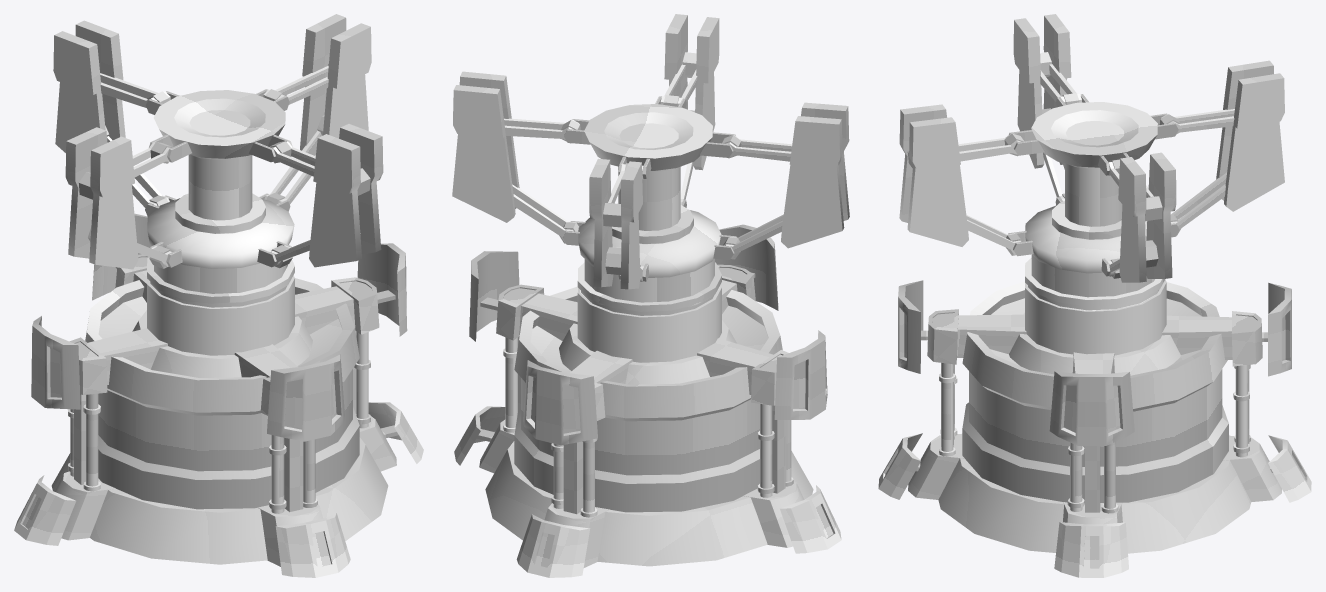
Rendered from shield_generator.obj.
3 views of the same model, side by side, from view 1: azimuth 30°, elevation 25°; view 2: azimuth 150°, elevation 25°; view 3: azimuth 270°, elevation 25° (orthographic). The views are drawn at different scales.
Parts seen in each view (by area): view 1: Shield_generatorgroup30_Shield_generatorgroup29_Shield_generator, Shield_generatorpCylinder1_Shield_generatorlambert5_0, Shield_generatorpolySurface1_Shield_generatorlambert5_0, Shield_generatorpolySurface7_Shield_generatorlambert5_0_2, Shield_generatorpolySurface8_Shield_generatorlambert5_0_2, Shield_generatorpolySurface7_Shield_generatorlambert5_0_3, Shield_generatorpCylinder3_Shield_generatorlambert5_0, Shield_generatorpolySurface7_Shield_generatorlambert5_0_1, Shield_generatorpolySurface8_Shield_generatorlambert5_0_3, Shield_generatorpolySurface3_Shield_generatorlambert5_0_3, Shield_generatorpolySurface6_Shield_generatorlambert5_0_3, Shield_generatorpolySurface6_Shield_generatorlambert5_0_1 (+13 smaller); view 2: Shield_generatorgroup30_Shield_generatorgroup29_Shield_generator, Shield_generatorpCylinder1_Shield_generatorlambert5_0, Shield_generatorpolySurface1_Shield_generatorlambert5_0, Shield_generatorpolySurface7_Shield_generatorlambert5_0, Shield_generatorpolySurface7_Shield_generatorlambert5_0_3, Shield_generatorpolySurface8_Shield_generatorlambert5_0, Shield_generatorpCylinder3_Shield_generatorlambert5_0, Shield_generatorpolySurface7_Shield_generatorlambert5_0_1, Shield_generatorpolySurface8_Shield_generatorlambert5_0_3, Shield_generatorpolySurface7_Shield_generatorlambert5_0_2, Shield_generatorpolySurface3_Shield_generatorlambert5_0_3, Shield_generatorpolySurface6_Shield_generatorlambert5_0_3 (+14 smaller); view 3: Shield_generatorgroup30_Shield_generatorgroup29_Shield_generator, Shield_generatorpCylinder1_Shield_generatorlambert5_0, Shield_generatorpolySurface1_Shield_generatorlambert5_0, Shield_generatorpolySurface7_Shield_generatorlambert5_0_1, Shield_generatorpolySurface8_Shield_generatorlambert5_0_1, Shield_generatorpCylinder3_Shield_generatorlambert5_0, Shield_generatorpolySurface7_Shield_generatorlambert5_0_2, Shield_generatorpolySurface7_Shield_generatorlambert5_0, Shield_generatorpolySurface6_Shield_generatorlambert5_0_2, Shield_generatorpolySurface6_Shield_generatorlambert5_0, Shield_generatorpolySurface3_Shield_generatorlambert5_0, Shield_generatorpolySurface3_Shield_generatorlambert5_0_2 (+11 smaller).
Part boxes in pixels (x1=…): Shield_generatorgroup30_Shield_generatorgroup29_Shield_generator: x1=53, y1=14, x2=383, y2=355; Shield_generatorpCylinder1_Shield_generatorlambert5_0: x1=85, y1=278, x2=359, y2=509; Shield_generatorpolySurface1_Shield_generatorlambert5_0: x1=51, y1=437, x2=388, y2=564; Shield_generatorpolySurface7_Shield_generatorlambert5_0_2: x1=267, y1=354, x2=344, y2=441; Shield_generatorpolySurface8_Shield_generatorlambert5_0_2: x1=275, y1=512, x2=350, y2=577; Shield_generatorpolySurface7_Shield_generatorlambert5_0_3: x1=31, y1=316, x2=80, y2=409; Shield_generatorpCylinder3_Shield_generatorlambert5_0: x1=132, y1=310, x2=312, y2=377; Shield_generatorpolySurface7_Shield_generatorlambert5_0_1: x1=357, y1=243, x2=407, y2=336; Shield_generatorpolySurface8_Shield_generatorlambert5_0_3: x1=14, y1=475, x2=76, y2=545; Shield_generatorpolySurface3_Shield_generatorlambert5_0_3: x1=55, y1=471, x2=115, y2=540; Shield_generatorpolySurface6_Shield_generatorlambert5_0_3: x1=88, y1=328, x2=167, y2=384; Shield_generatorpolySurface6_Shield_generatorlambert5_0_1: x1=295, y1=286, x2=355, y2=334; Shield_generatorgroup30_Shield_generatorgroup29_Shield_generator: x1=452, y1=14, x2=849, y2=362; Shield_generatorpCylinder1_Shield_generatorlambert5_0: x1=514, y1=286, x2=782, y2=512; Shield_generatorpolySurface1_Shield_generatorlambert5_0: x1=485, y1=441, x2=813, y2=566; Shield_generatorpolySurface7_Shield_generatorlambert5_0: x1=523, y1=360, x2=597, y2=445; Shield_generatorpolySurface7_Shield_generatorlambert5_0_3: x1=774, y1=330, x2=827, y2=419; Shield_generatorpolySurface8_Shield_generatorlambert5_0: x1=516, y1=514, x2=590, y2=577; Shield_generatorpCylinder3_Shield_generatorlambert5_0: x1=559, y1=320, x2=736, y2=384; Shield_generatorpolySurface7_Shield_generatorlambert5_0_1: x1=469, y1=251, x2=519, y2=341; Shield_generatorpolySurface8_Shield_generatorlambert5_0_3: x1=780, y1=485, x2=841, y2=553; Shield_generatorpolySurface7_Shield_generatorlambert5_0_2: x1=715, y1=224, x2=778, y2=310; Shield_generatorpolySurface3_Shield_generatorlambert5_0_3: x1=743, y1=481, x2=804, y2=547; Shield_generatorpolySurface6_Shield_generatorlambert5_0_3: x1=697, y1=338, x2=773, y2=394; Shield_generatorgroup30_Shield_generatorgroup29_Shield_generator: x1=899, y1=14, x2=1284, y2=355; Shield_generatorpCylinder1_Shield_generatorlambert5_0: x1=962, y1=281, x2=1228, y2=502; Shield_generatorpolySurface1_Shield_generatorlambert5_0: x1=938, y1=435, x2=1251, y2=553; Shield_generatorpolySurface7_Shield_generatorlambert5_0_1: x1=1049, y1=371, x2=1134, y2=445; Shield_generatorpolySurface8_Shield_generatorlambert5_0_1: x1=1054, y1=522, x2=1128, y2=577; Shield_generatorpCylinder3_Shield_generatorlambert5_0: x1=1009, y1=312, x2=1180, y2=375; Shield_generatorpolySurface7_Shield_generatorlambert5_0_2: x1=898, y1=280, x2=923, y2=373; Shield_generatorpolySurface7_Shield_generatorlambert5_0: x1=1268, y1=282, x2=1291, y2=376; Shield_generatorpolySurface6_Shield_generatorlambert5_0_2: x1=957, y1=314, x2=1026, y2=357; Shield_generatorpolySurface6_Shield_generatorlambert5_0: x1=1162, y1=315, x2=1232, y2=359; Shield_generatorpolySurface3_Shield_generatorlambert5_0: x1=1223, y1=435, x2=1281, y2=501; Shield_generatorpolySurface3_Shield_generatorlambert5_0_2: x1=908, y1=434, x2=964, y2=499.
Bounding box in the file's own units: 0.8999 × 0.9 × 0.8995.
